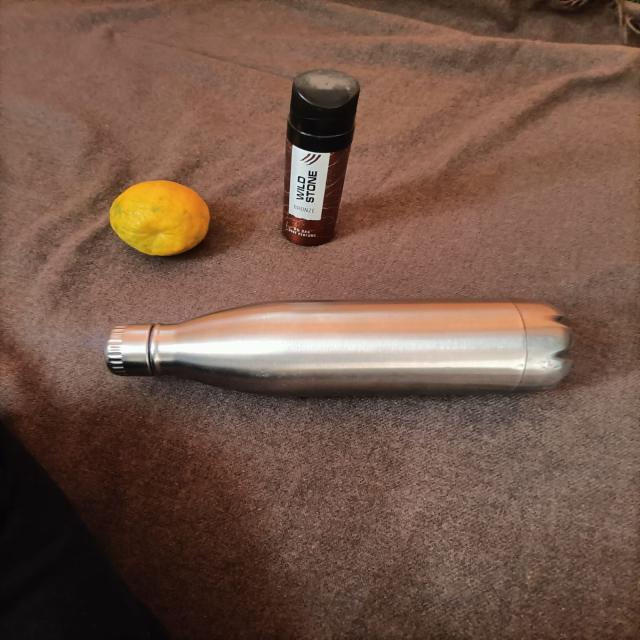bottle: (83, 293, 604, 413)
orange: (94, 176, 226, 269)
spray: (277, 63, 374, 262)
